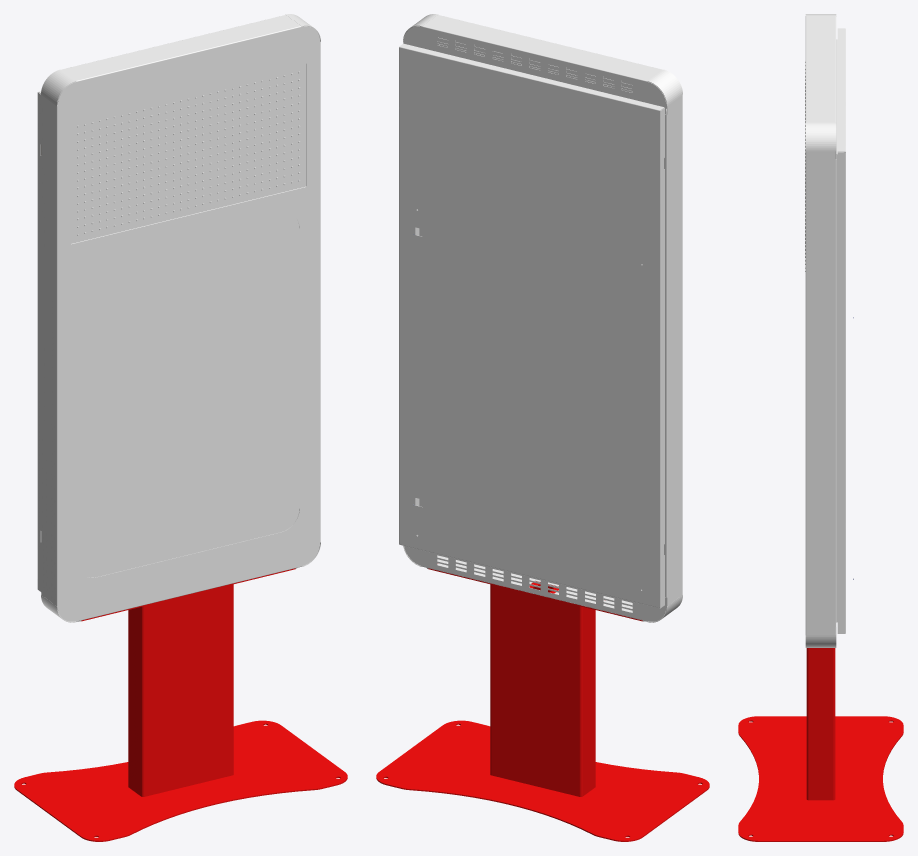
The model's file is led.glb.
3 views of the same model, side by side, from view 1: azimuth 30°, elevation 25°; view 2: azimuth 150°, elevation 25°; view 3: azimuth 270°, elevation 25° (orthographic). The views are drawn at different scales.
Visible parts, largest first — view 1: body253271.001, body227823.001, body242776.002, body291389.003, body294225.001, body242776.003, body261170.001, body291389.001, body239273.001; view 2: body261170.001, body227823.001, body291389.001, body294225.001, body291389.003, body239273.001; view 3: body227823.001, body294225.001, body261170.001, body291389.001, body291389.003, body239273.003, body239273.007.
Boxes of the visible parts, left/top/right/bottom form: body253271.001: left=78, top=213, right=299, bottom=577; body227823.001: left=41, top=15, right=320, bottom=621; body242776.002: left=71, top=63, right=306, bottom=243; body291389.003: left=135, top=584, right=233, bottom=796; body294225.001: left=14, top=720, right=347, bottom=841; body242776.003: left=77, top=71, right=300, bottom=236; body261170.001: left=37, top=91, right=58, bottom=591; body291389.001: left=128, top=608, right=134, bottom=791; body239273.001: left=41, top=69, right=76, bottom=105; body261170.001: left=399, top=43, right=664, bottom=608; body227823.001: left=403, top=15, right=682, bottom=621; body291389.001: left=490, top=584, right=588, bottom=796; body294225.001: left=376, top=720, right=709, bottom=841; body291389.003: left=533, top=585, right=595, bottom=791; body239273.001: left=647, top=69, right=682, bottom=105; body227823.001: left=805, top=16, right=843, bottom=635; body294225.001: left=738, top=716, right=903, bottom=841; body261170.001: left=837, top=28, right=845, bottom=633; body291389.001: left=821, top=648, right=835, bottom=800; body291389.003: left=806, top=648, right=820, bottom=800; body239273.003: left=805, top=122, right=836, bottom=151; body239273.007: left=805, top=635, right=836, bottom=647.
Bounding box in the file's own units: 715 × 1900 × 400.
